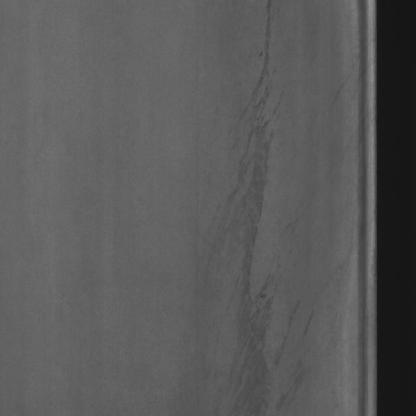water_spot: (219, 1, 300, 409)
